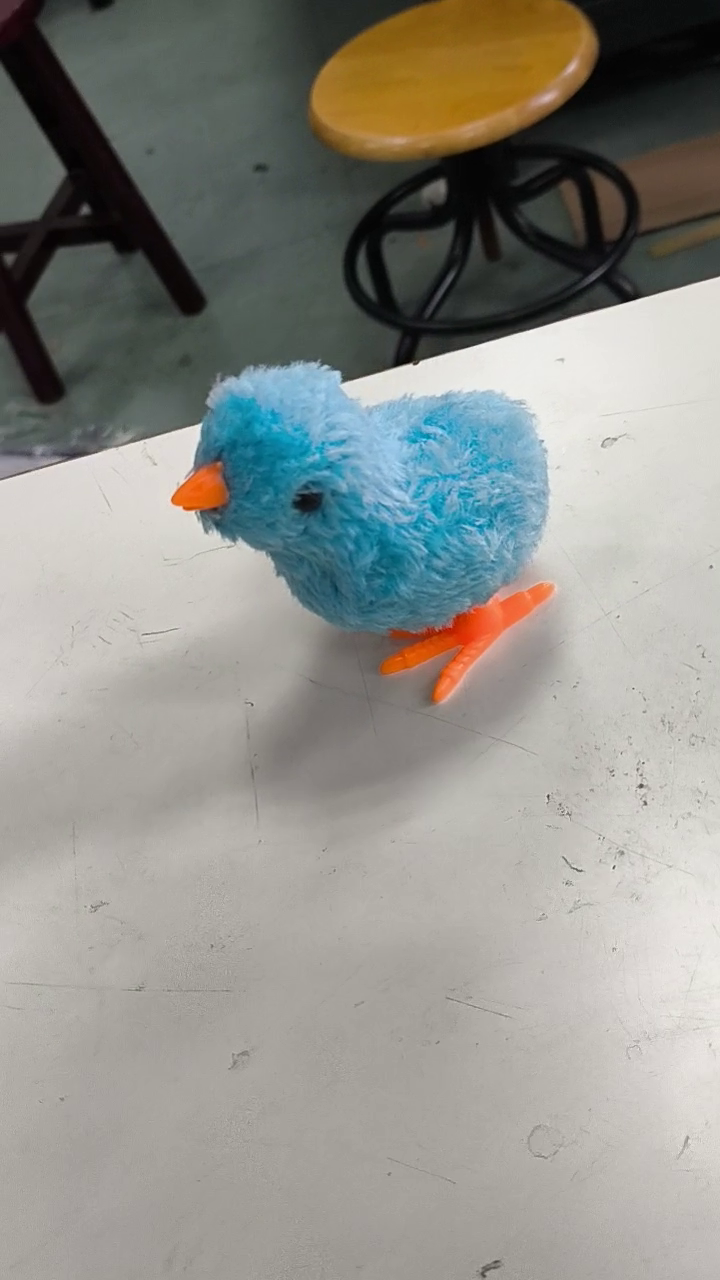blue chicken: (167, 355, 560, 714)
